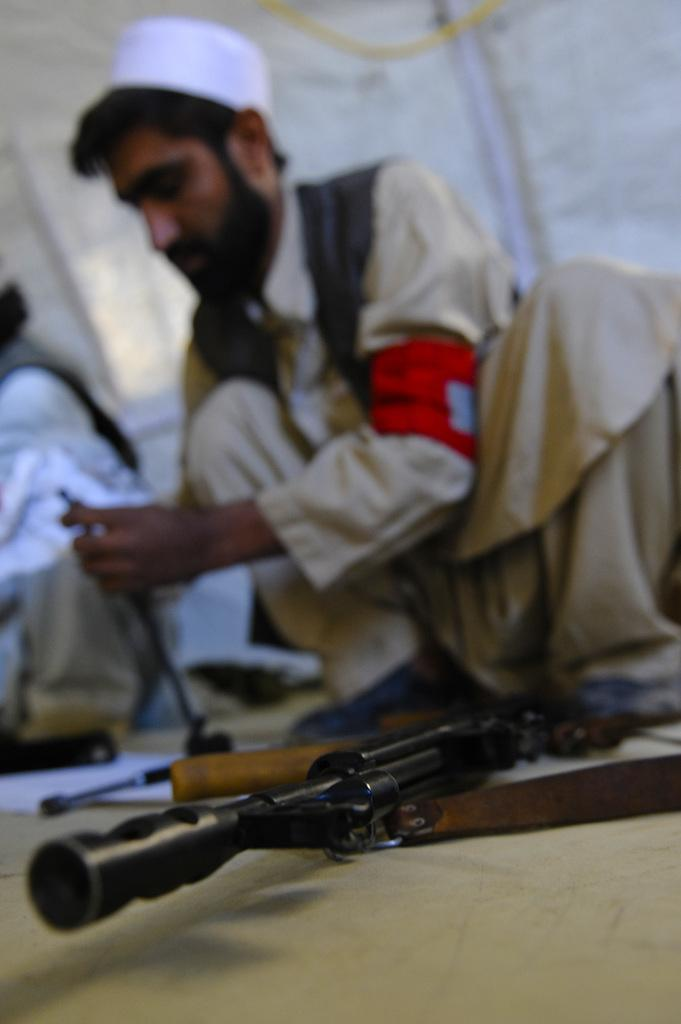Shotgun: (10, 684, 611, 968)
